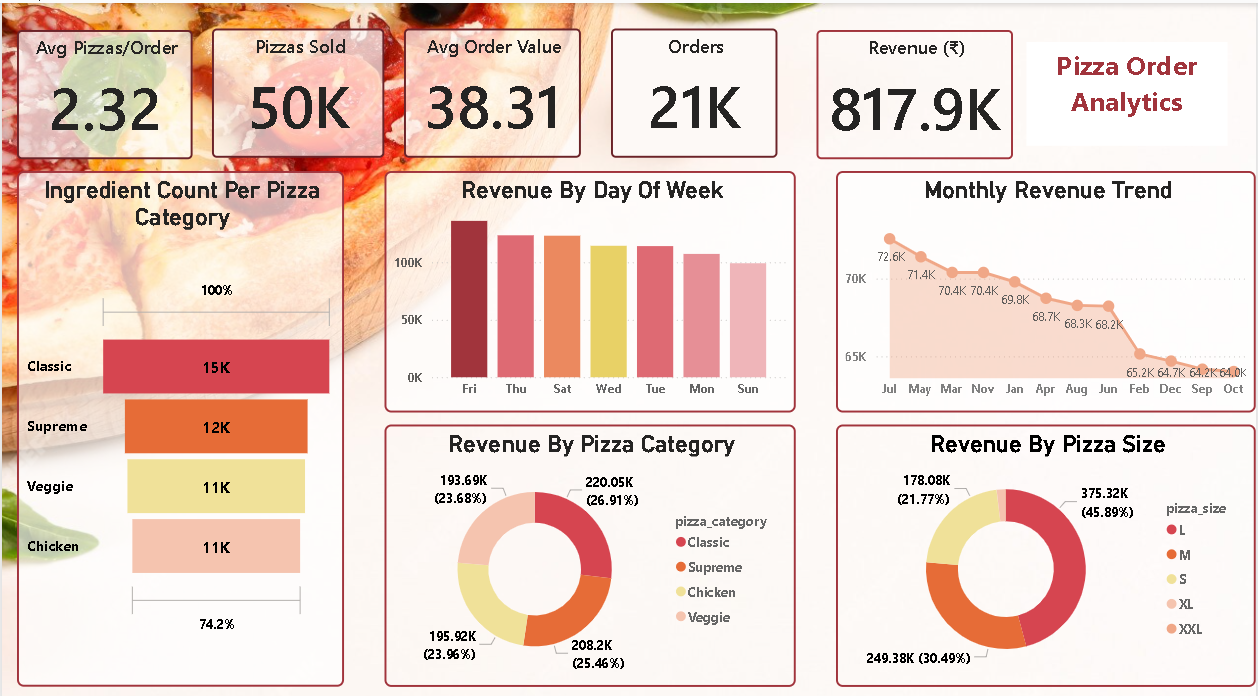

Layout of this report page (visuals, bound fields, positions):
{"tool":"powerbi","page":{"name":"Pizza Order Analytics","canvas":[1280,720],"ordinal":0},"visuals":[{"type":"funnel","title":"Ingredient Count Per Pizza Category","fields":{"Category":["pizza_sales.pizza_category"],"Y":["CountNonNull(pizza_sales.pizza_ingredients)"]},"box":[15.3,171.6,334,527],"z":0},{"type":"clusteredColumnChart","title":"Revenue By Day Of Week","fields":{"Y":["Sum(pizza_sales.total_price)"],"Category":["pizza_sales.DayName"]},"box":[390.6,171.6,419.7,246.6],"z":1000},{"type":"donutChart","title":"Revenue By Pizza Category","fields":{"Category":["pizza_sales.pizza_category"],"Y":["Sum(pizza_sales.total_price)"]},"box":[390.6,430.5,419.7,268.1],"z":2000},{"type":"donutChart","title":"Revenue By Pizza Size","fields":{"Category":["pizza_sales.pizza_size"],"Y":["Sum(pizza_sales.total_price)"]},"box":[851.7,430.5,428.9,268.1],"z":3000},{"type":"lineChart","title":"Monthly Revenue Trend","fields":{"Y":["Sum(pizza_sales.total_price)"],"Category":["pizza_sales.Month"]},"box":[851.7,171.6,428.9,246.6],"z":4000},{"type":"card","title":"Revenue (₹)","fields":{"Values":["pizza_sales.Measure"]},"box":[831.8,27.6,200.7,131.7],"z":5000},{"type":"card","title":"Orders","fields":{"Values":["pizza_sales.Total_order"]},"box":[622,26,170,131.7],"z":6000},{"type":"card","title":"Avg Order Value","fields":{"Values":["pizza_sales.AvgOrderValue"]},"box":[410.6,26,180.8,131.7],"z":7000},{"type":"card","title":"\tPizzas Sold","fields":{"Values":["pizza_sales.Total_pizza_sold"]},"box":[214.5,26,176.2,131.7],"z":8000},{"type":"card","title":"Avg Pizzas/Order","fields":{"Values":["pizza_sales.Avrage"]},"box":[15.3,27.6,179.2,131.7],"z":9000},{"type":"textbox","box":[1046.3,39.8,205.3,105.7],"z":10000}]}

Visuals, with their boxes in screenshot pixels (x1, y1, x2, y2), scaled from the page's 1280x720 canvas onto the 1258x696 screenshot:
"Ingredient Count Per Pizza Category" funnel: (x1=15, y1=166, x2=343, y2=675)
"Revenue By Day Of Week" clusteredColumnChart: (x1=384, y1=166, x2=796, y2=404)
"Revenue By Pizza Category" donutChart: (x1=384, y1=416, x2=796, y2=675)
"Revenue By Pizza Size" donutChart: (x1=837, y1=416, x2=1257, y2=675)
"Monthly Revenue Trend" lineChart: (x1=837, y1=166, x2=1257, y2=404)
"Revenue (₹)" card: (x1=818, y1=27, x2=1015, y2=154)
"Orders" card: (x1=611, y1=25, x2=778, y2=152)
"Avg Order Value" card: (x1=404, y1=25, x2=581, y2=152)
"	Pizzas Sold" card: (x1=211, y1=25, x2=384, y2=152)
"Avg Pizzas/Order" card: (x1=15, y1=27, x2=191, y2=154)
textbox: (x1=1028, y1=38, x2=1230, y2=141)
